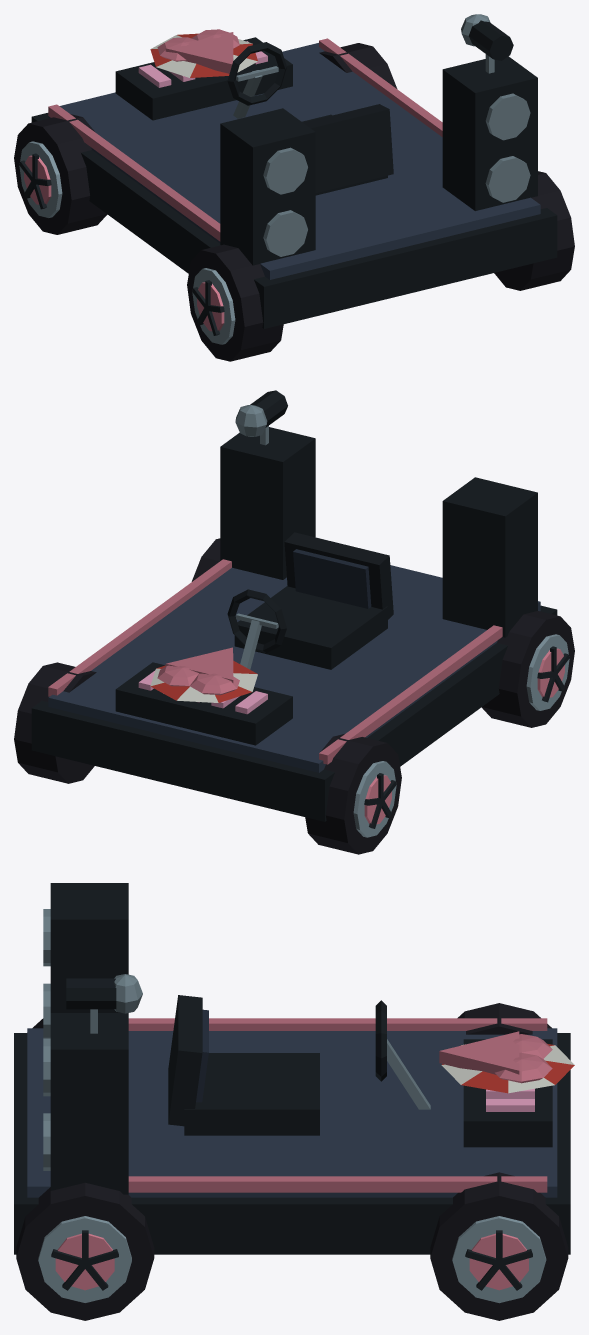
Rendered from kart.glb.
3 renders of one model, top to bottom at view 1: azimuth 30°, elevation 25°; view 2: azimuth 150°, elevation 25°; view 3: azimuth 270°, elevation 25°, orthographic. The views are drawn at different scales.
Visible parts, largest first — view 1: identity-stage-stage-platform-and-pa-towers, identity-stage-driver-cockpit, wheel-rear-left, wheel-front-left, wheel-rear-right, identity-stage-motif-heart, identity-stage-motif-microphone, identity-stage-motif-umbrella, wheel-front-right; view 2: identity-stage-stage-platform-and-pa-towers, identity-stage-driver-cockpit, wheel-front-left, wheel-rear-left, wheel-front-right, identity-stage-motif-heart, identity-stage-motif-microphone, identity-stage-motif-umbrella; view 3: identity-stage-stage-platform-and-pa-towers, identity-stage-driver-cockpit, wheel-front-right, wheel-rear-right, identity-stage-motif-heart, identity-stage-motif-microphone, identity-stage-motif-umbrella, wheel-front-left.
Boxes of the visible parts, box(x1,y1,x2,y2) form: identity-stage-stage-platform-and-pa-towers: box(31, 37, 557, 328); identity-stage-driver-cockpit: box(227, 42, 393, 195); wheel-rear-left: box(187, 244, 283, 361); wheel-front-left: box(14, 114, 107, 234); wheel-rear-right: box(494, 171, 574, 290); identity-stage-motif-heart: box(157, 29, 239, 73); identity-stage-motif-microphone: box(461, 14, 513, 73); identity-stage-motif-umbrella: box(150, 33, 257, 77); wheel-front-right: box(319, 43, 397, 88); identity-stage-stage-platform-and-pa-towers: box(31, 427, 557, 821); identity-stage-driver-cockpit: box(227, 532, 393, 669); wheel-front-left: box(305, 734, 401, 854); wheel-rear-left: box(481, 611, 574, 727); wheel-front-right: box(14, 662, 96, 783); identity-stage-motif-heart: box(157, 647, 239, 695); identity-stage-motif-microphone: box(235, 390, 287, 445); identity-stage-motif-umbrella: box(150, 657, 257, 702); identity-stage-stage-platform-and-pa-towers: box(14, 883, 570, 1254); identity-stage-driver-cockpit: box(168, 995, 430, 1135); wheel-front-right: box(430, 1172, 568, 1320); wheel-rear-right: box(16, 1182, 154, 1320); identity-stage-motif-heart: box(439, 1031, 552, 1083); identity-stage-motif-microphone: box(66, 974, 142, 1033); identity-stage-motif-umbrella: box(441, 1043, 574, 1093); wheel-front-left: box(457, 1003, 551, 1034).
Size of the model in its own units: 2.16 by 1.57 by 2.52.
